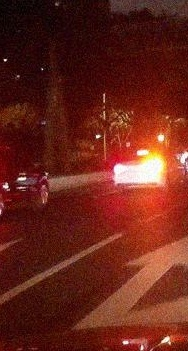L_light: (114, 166, 125, 173)
R_light: (150, 164, 162, 172)
T_light: (138, 151, 147, 154)
night-right: (114, 146, 164, 193)
